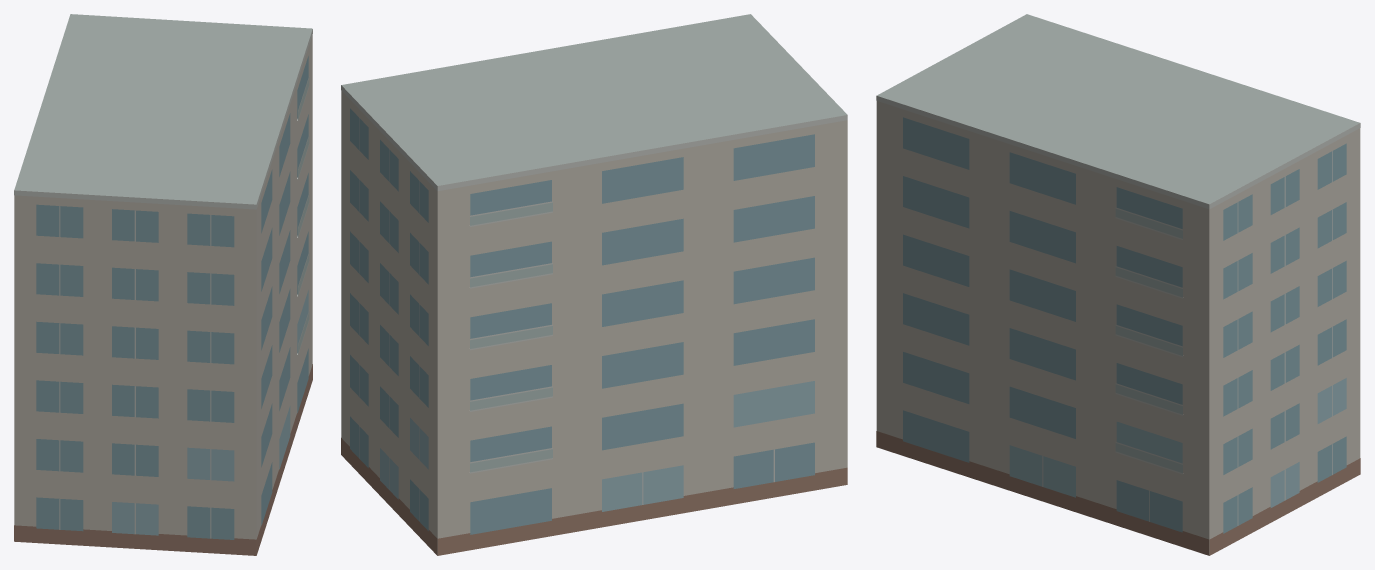
The model's file is survey-upis-32709521.glb.
3 renders of one model, left to right at view 1: azimuth 30°, elevation 25°; view 2: azimuth 150°, elevation 25°; view 3: azimuth 270°, elevation 25°, orthographic. The views are drawn at different scales.
Parts seen in each view (by area): view 1: survey-upis-32709521.tmp; view 2: survey-upis-32709521.tmp; view 3: survey-upis-32709521.tmp.
Part boxes in pixels (x1,y1,x2,y2): survey-upis-32709521.tmp: [14, 14, 312, 555]; survey-upis-32709521.tmp: [341, 14, 847, 555]; survey-upis-32709521.tmp: [876, 14, 1360, 555].
Size of the model in its own units: 19.99 by 17.2 by 21.47.
